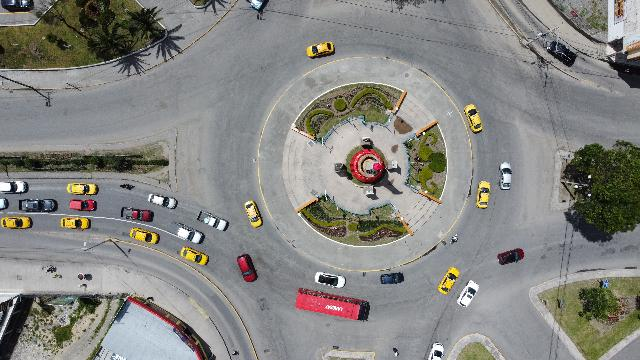Vehiculo: (169, 222, 205, 244), (547, 41, 577, 67), (197, 210, 229, 232), (236, 254, 258, 282), (180, 246, 210, 266), (244, 200, 264, 228), (18, 198, 58, 212), (463, 103, 482, 132), (120, 206, 154, 222), (458, 281, 478, 307), (438, 268, 458, 294), (314, 272, 346, 288), (130, 228, 160, 244), (306, 42, 336, 58), (148, 194, 178, 209), (1, 216, 32, 230), (498, 248, 524, 264), (498, 162, 512, 190), (0, 180, 28, 194), (68, 183, 99, 195), (476, 182, 490, 208), (61, 217, 91, 229), (70, 199, 96, 211), (428, 342, 444, 360), (380, 272, 404, 284), (249, 0, 269, 10), (0, 198, 8, 209)
